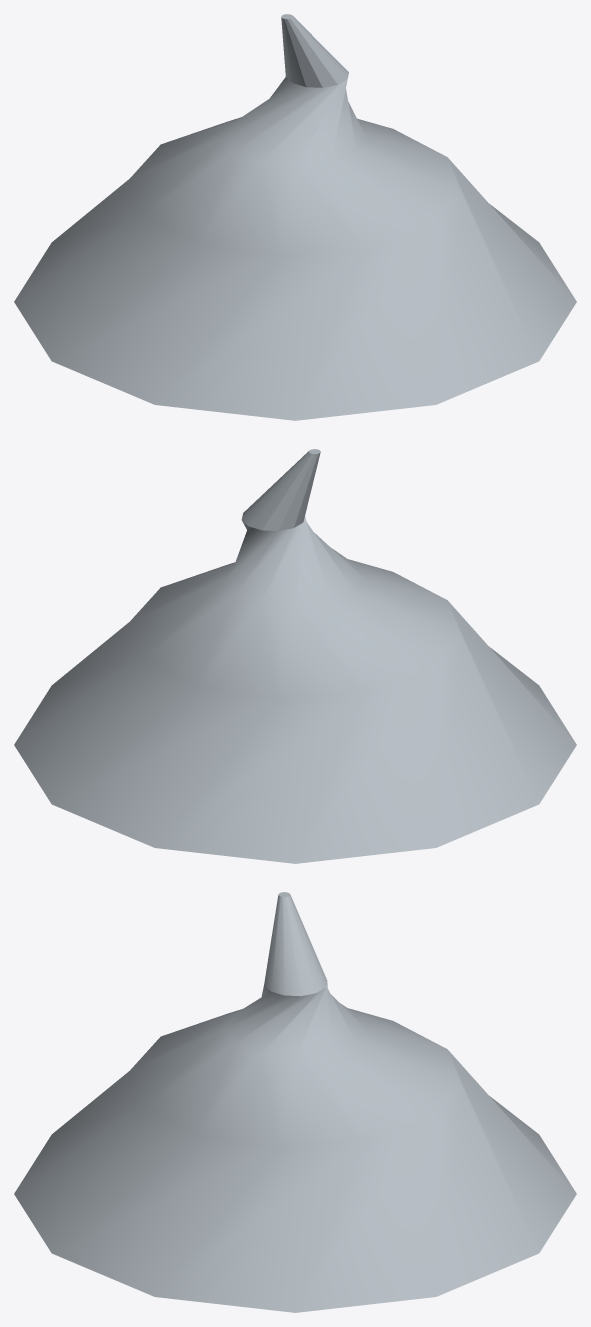
File: Asset_TinFoilHat.fbx
3 renders of one model, top to bottom at view 1: azimuth 30°, elevation 25°; view 2: azimuth 150°, elevation 25°; view 3: azimuth 270°, elevation 25°, orthographic.
Visible parts, largest first — view 1: Asset_TinFoilHat; view 2: Asset_TinFoilHat; view 3: Asset_TinFoilHat.
Part boxes in pixels (bbox=[...]): Asset_TinFoilHat: bbox=[14, 14, 576, 420]; Asset_TinFoilHat: bbox=[14, 449, 576, 863]; Asset_TinFoilHat: bbox=[14, 892, 576, 1312].
Bounding box in the file's own units: 40.56 × 23.26 × 40.56.
